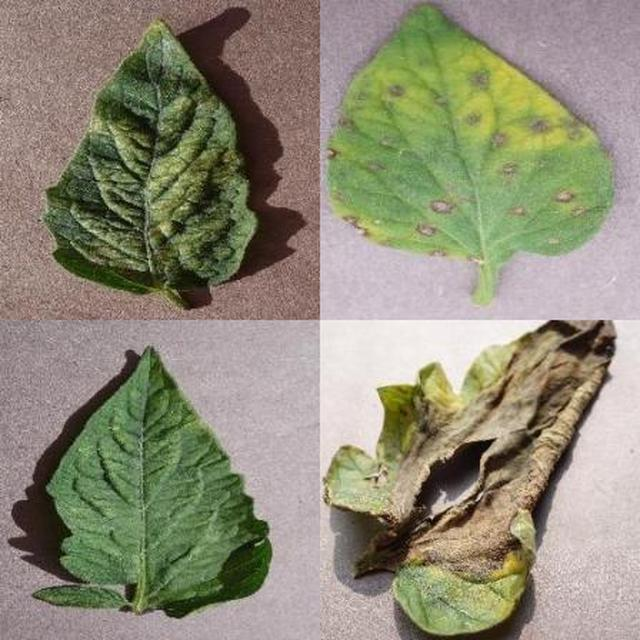Spider Mites Leaf: (211, 188, 640, 640)
